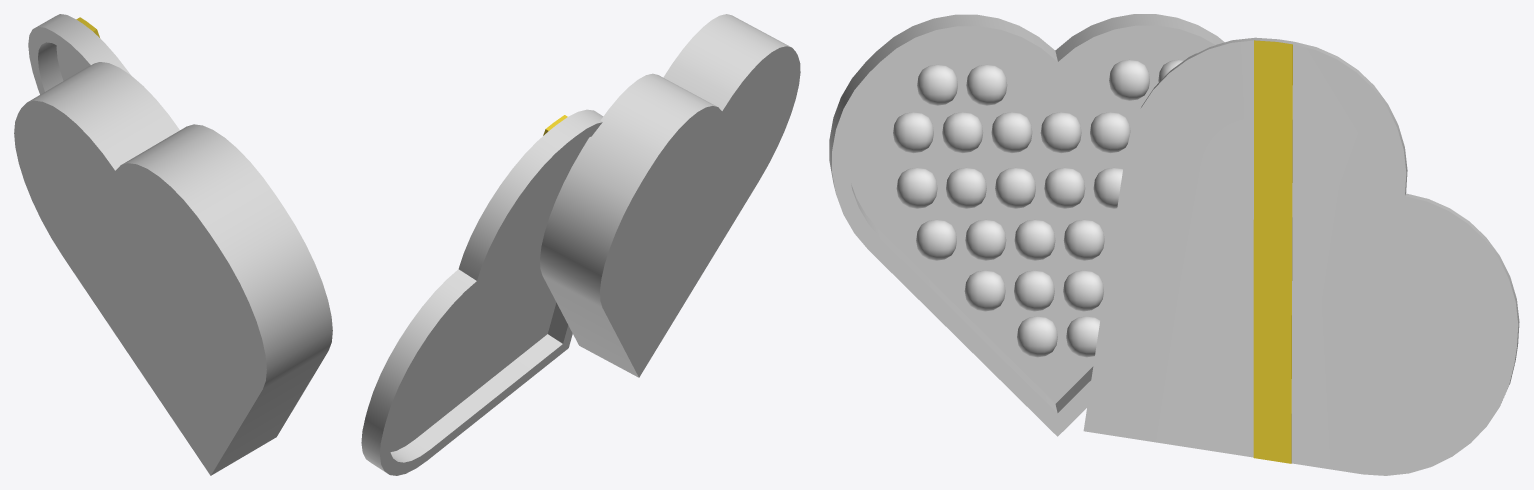
Rendered from bombom.fbx.
3 views of the same model, side by side, from view 1: azimuth 30°, elevation 25°; view 2: azimuth 150°, elevation 25°; view 3: azimuth 270°, elevation 25° (orthographic). The views are drawn at different scales.
Parts seen in each view (by area): view 1: Cube.002; view 2: Cube.002; view 3: Cube.002.
Boxes of the visible parts, x1,y1,x2,y2 form: Cube.002: (14, 14, 332, 475); Cube.002: (361, 14, 800, 475); Cube.002: (829, 14, 1519, 475).
Size of the model in its own units: 159 by 269 by 435.
